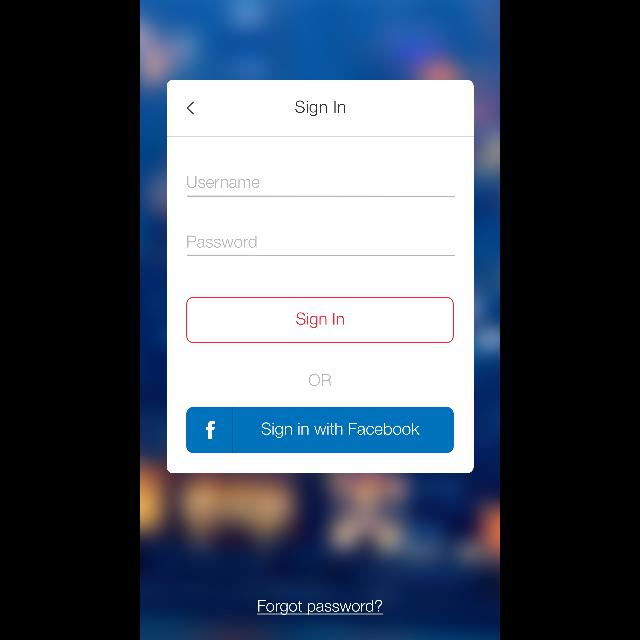backgroundimage: (140, 1, 500, 640)
icon: (186, 102, 194, 115)
input: (186, 176, 454, 197), (186, 236, 454, 256)
panel: (166, 80, 474, 474)
text: (257, 599, 383, 615), (188, 176, 260, 188), (188, 236, 256, 248), (295, 100, 345, 116), (309, 374, 331, 386)
textbutton: (186, 297, 454, 343), (186, 407, 454, 453)
